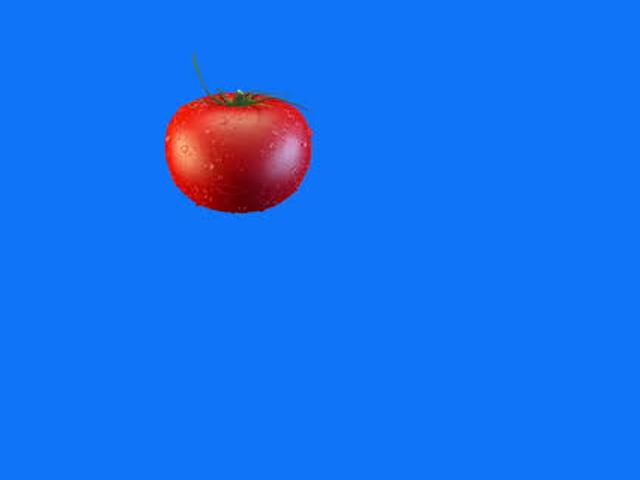tomato: (164, 92, 312, 213)
